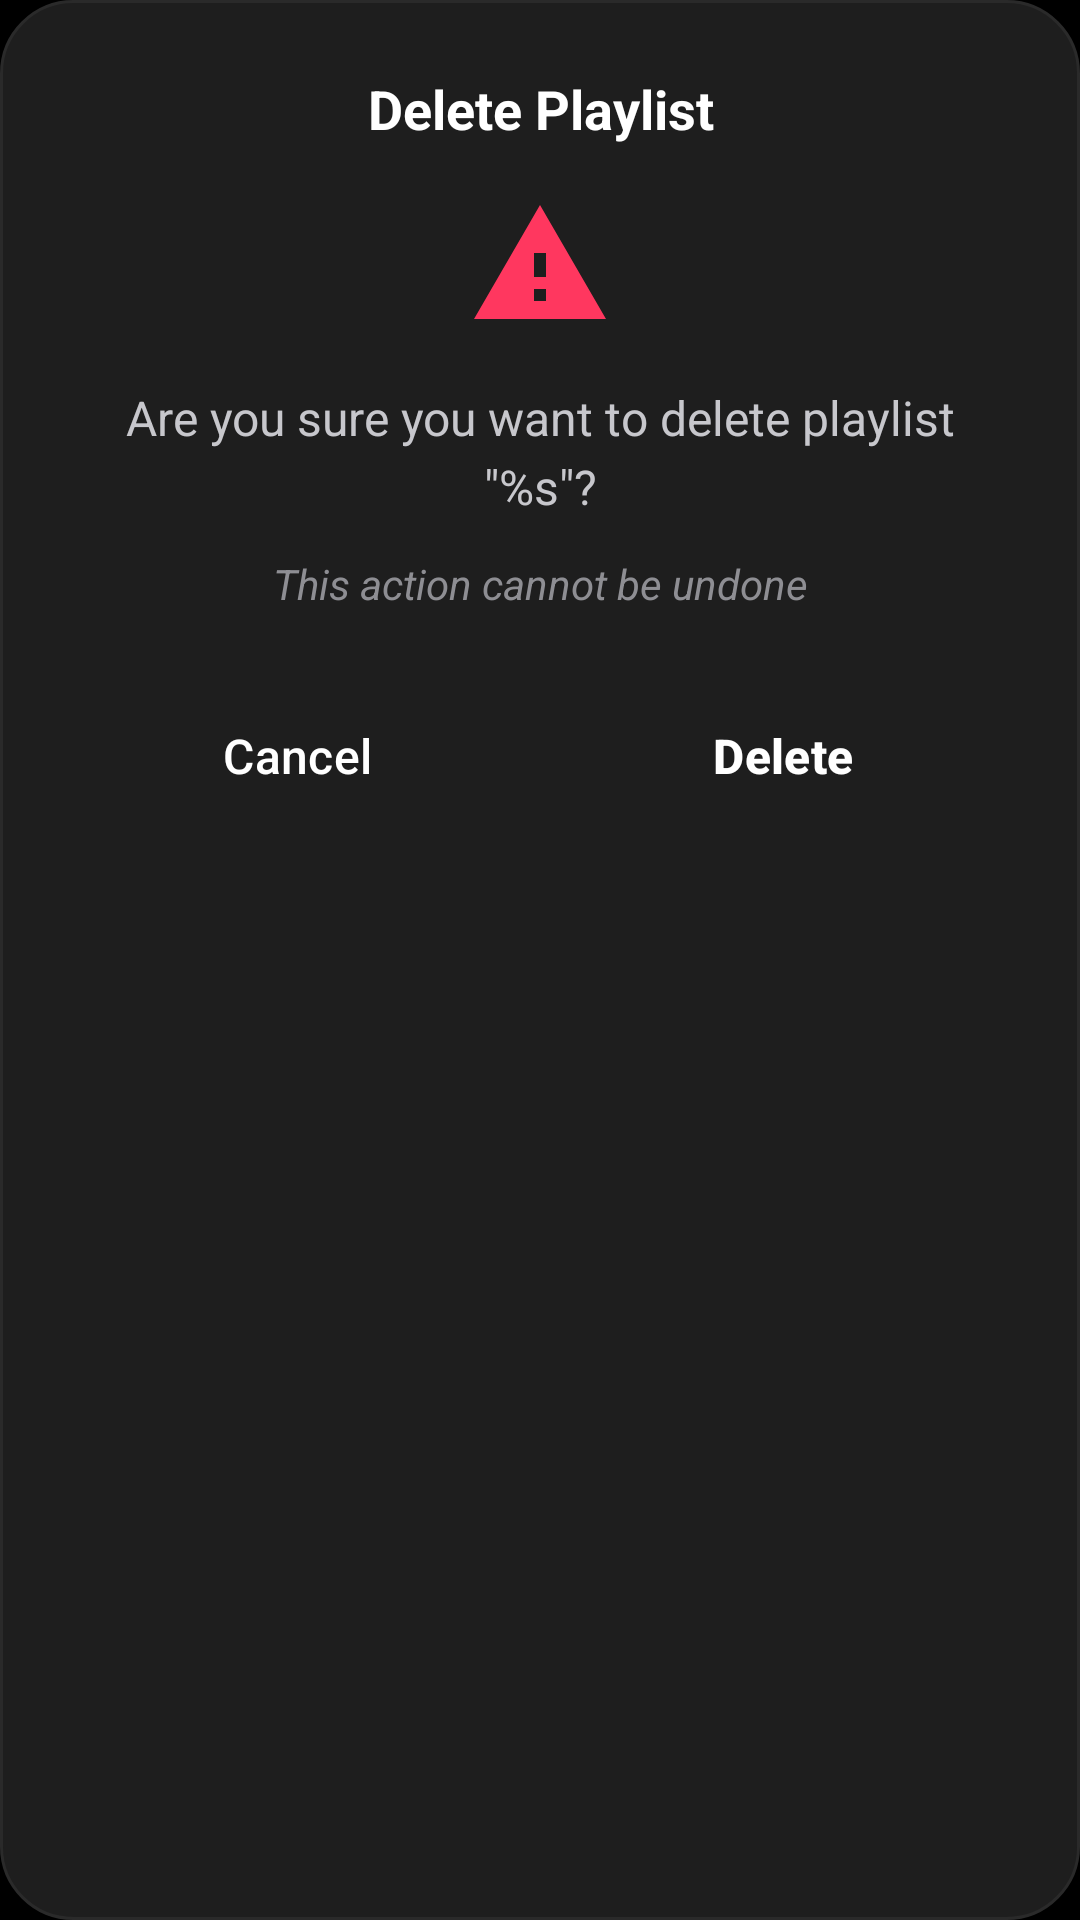

Named icons in this screenshot (1080*1920) and their bounding boxes, (x1, y1, x2, y2):
warning: (474, 205, 606, 319)
